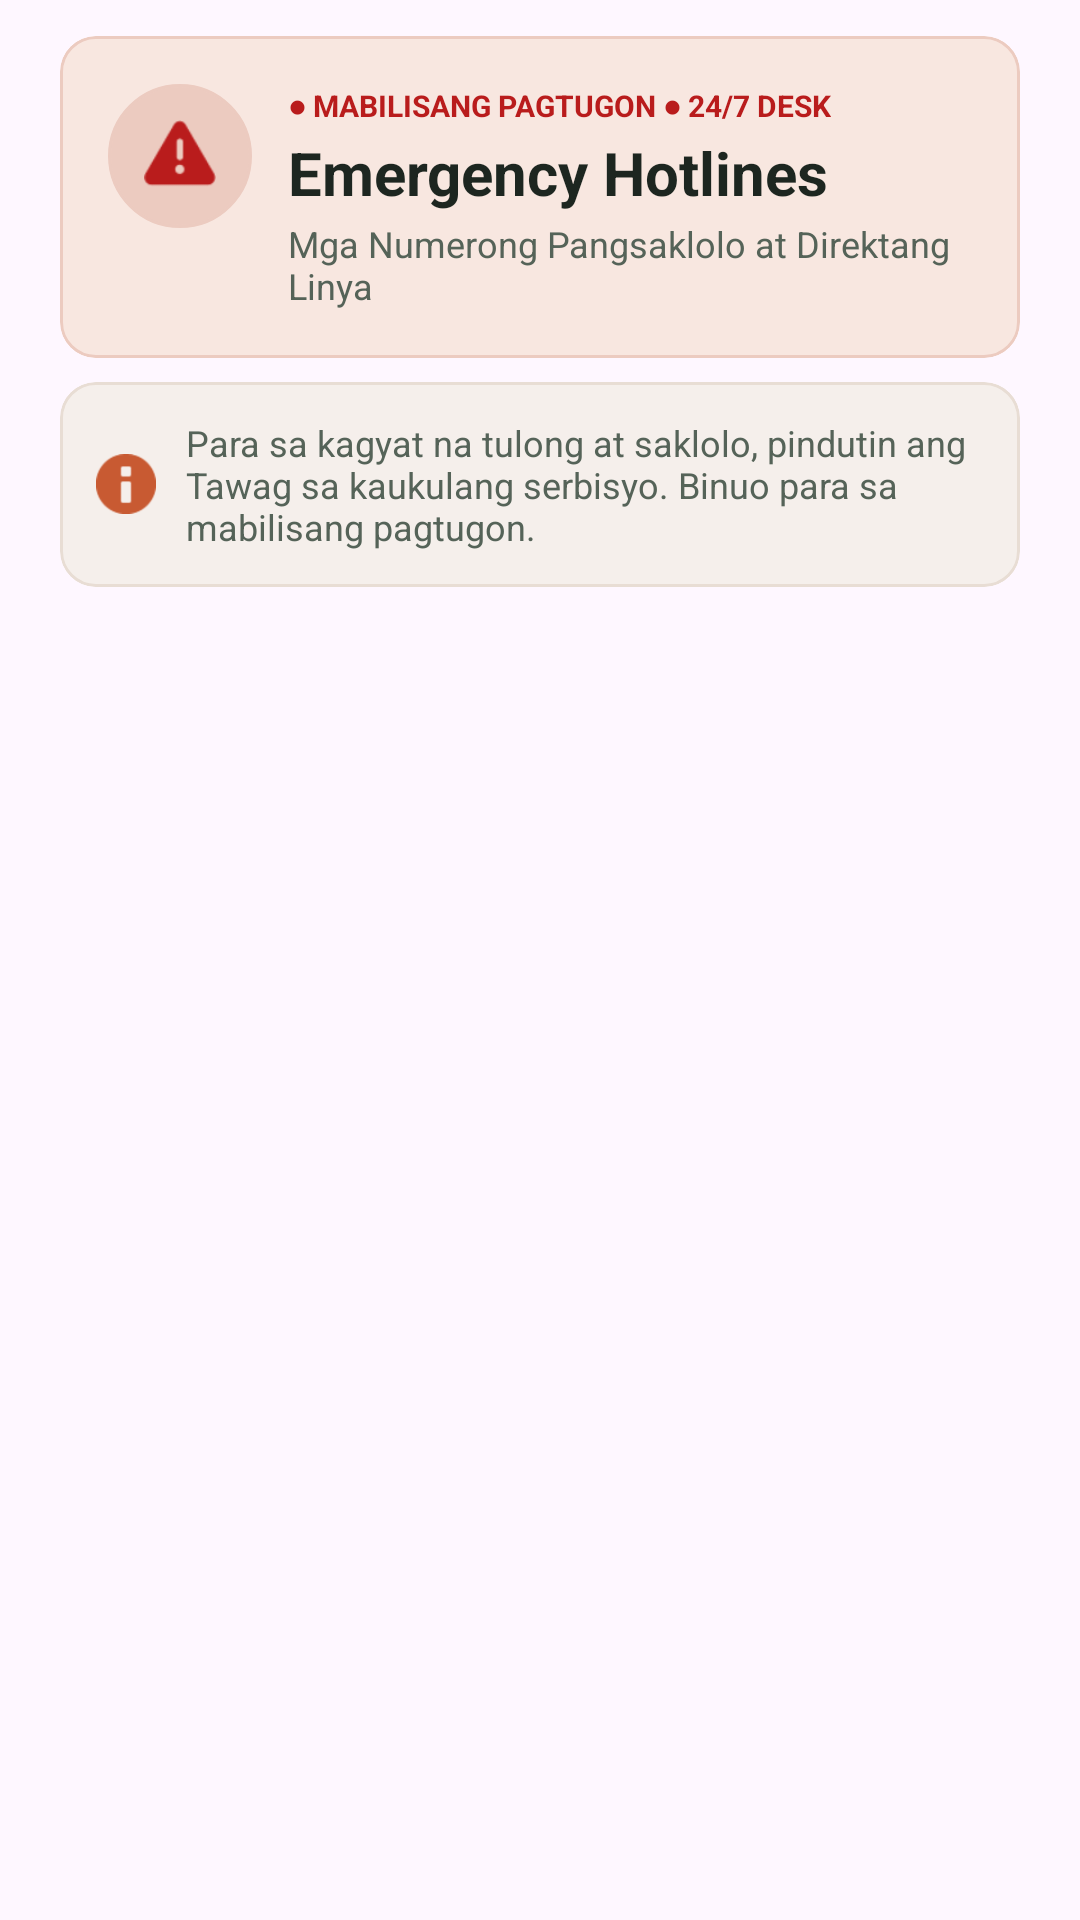

Icon bounding boxes for this 1080x1920 phone screenshot, format (x1, y1, x2, y2):
alert: (144, 120, 216, 186)
info: (96, 454, 156, 514)
